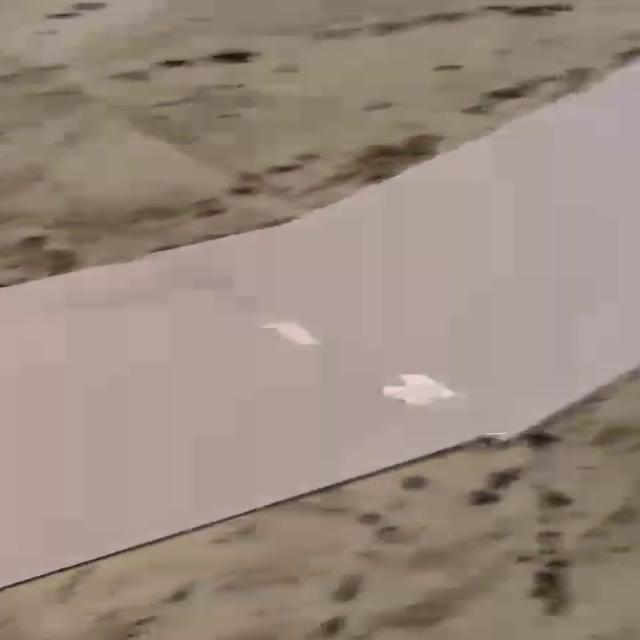road: (1, 65, 639, 586)
